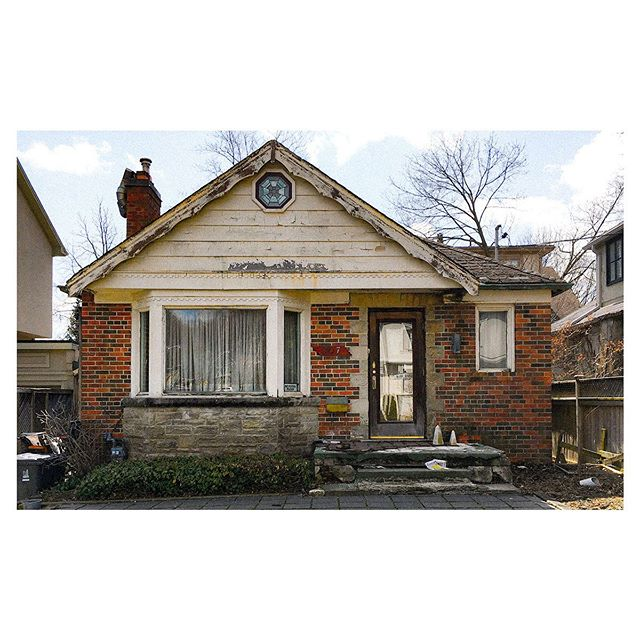building: (69, 149, 566, 465)
door: (367, 303, 429, 442)
tree: (388, 137, 523, 255)
window: (156, 295, 300, 390)
